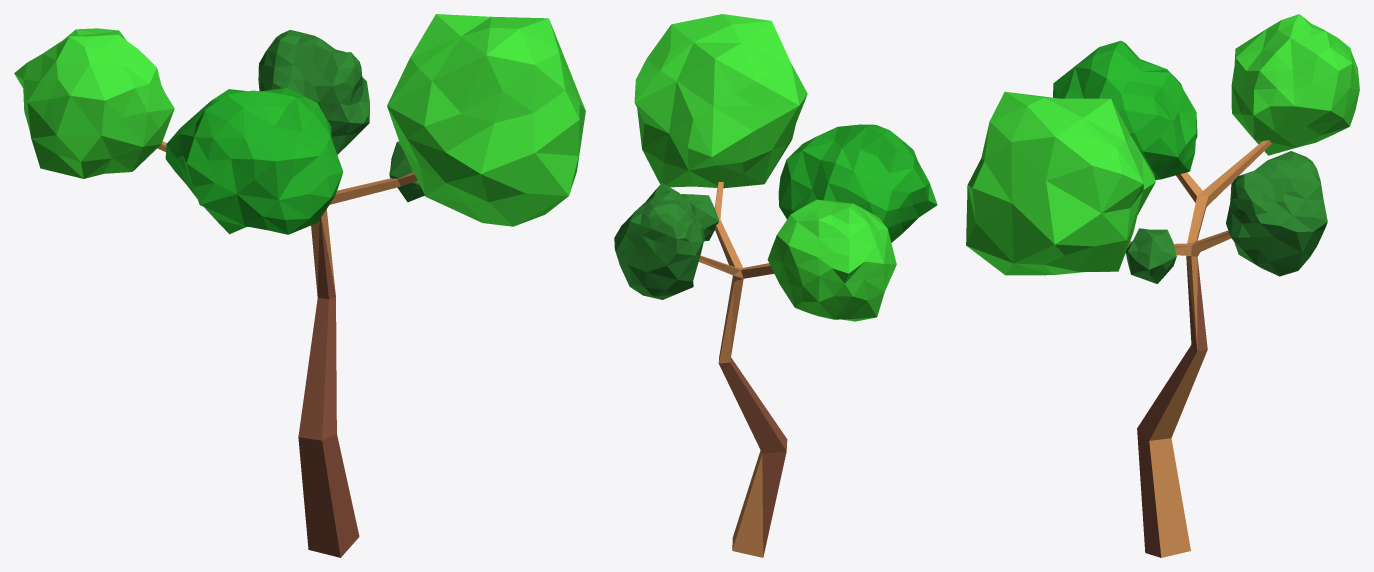
File: Tree_greenFBX.fbx
3 views of the same model, side by side, from view 1: azimuth 30°, elevation 25°; view 2: azimuth 150°, elevation 25°; view 3: azimuth 270°, elevation 25° (orthographic). The views are drawn at different scales.
Parts seen in each view (by area): view 1: Cube; view 2: Cube; view 3: Cube.
Part boxes in pixels (<box>): Cube: <box>14,14,585,557</box>; Cube: <box>614,14,937,557</box>; Cube: <box>966,14,1359,557</box>.
Bounding box in the file's own units: 649 × 806 × 578.
